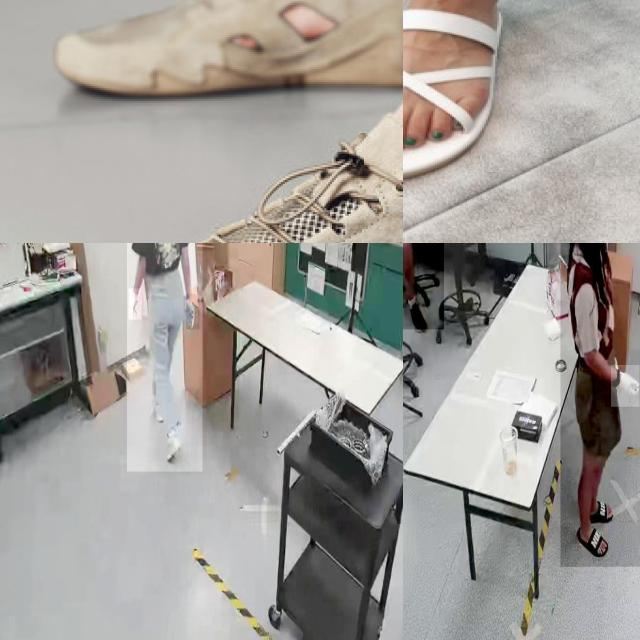Sandals: (44, 129, 403, 243), (403, 0, 525, 190)
hand_glove: (611, 365, 640, 408), (186, 294, 200, 330), (128, 288, 142, 320)
person: (560, 243, 640, 567), (127, 243, 203, 472), (403, 243, 444, 330)
shoes: (160, 426, 186, 467), (404, 295, 429, 337)
